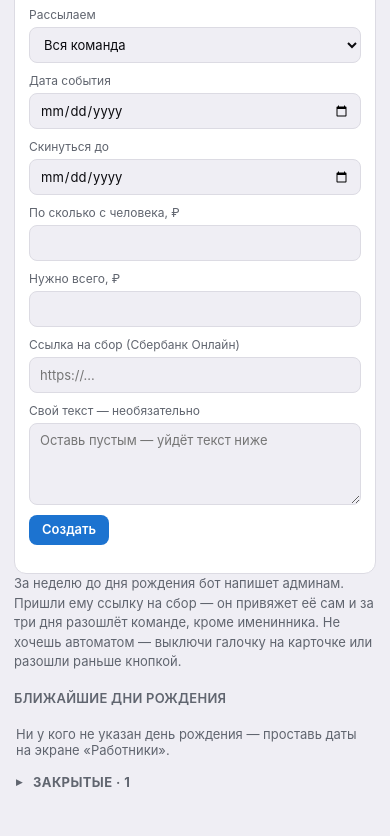
Test: CollectionsScreen › рисует активные выше закрытых и называет закрытый закрытым
(page scrolled)
Click the button with class "archive-toggle".
click(73, 782)  # box [14,768,376,796]
(page scrolled)
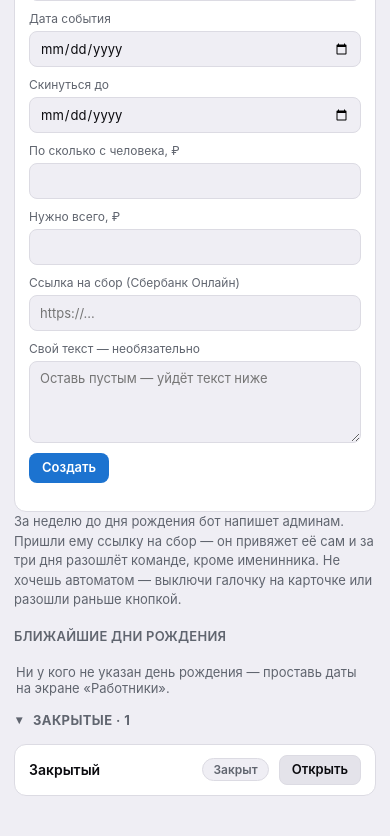
Expected: the element with test id "collection-card" shows "Закрыт", [214,762,258,777]
